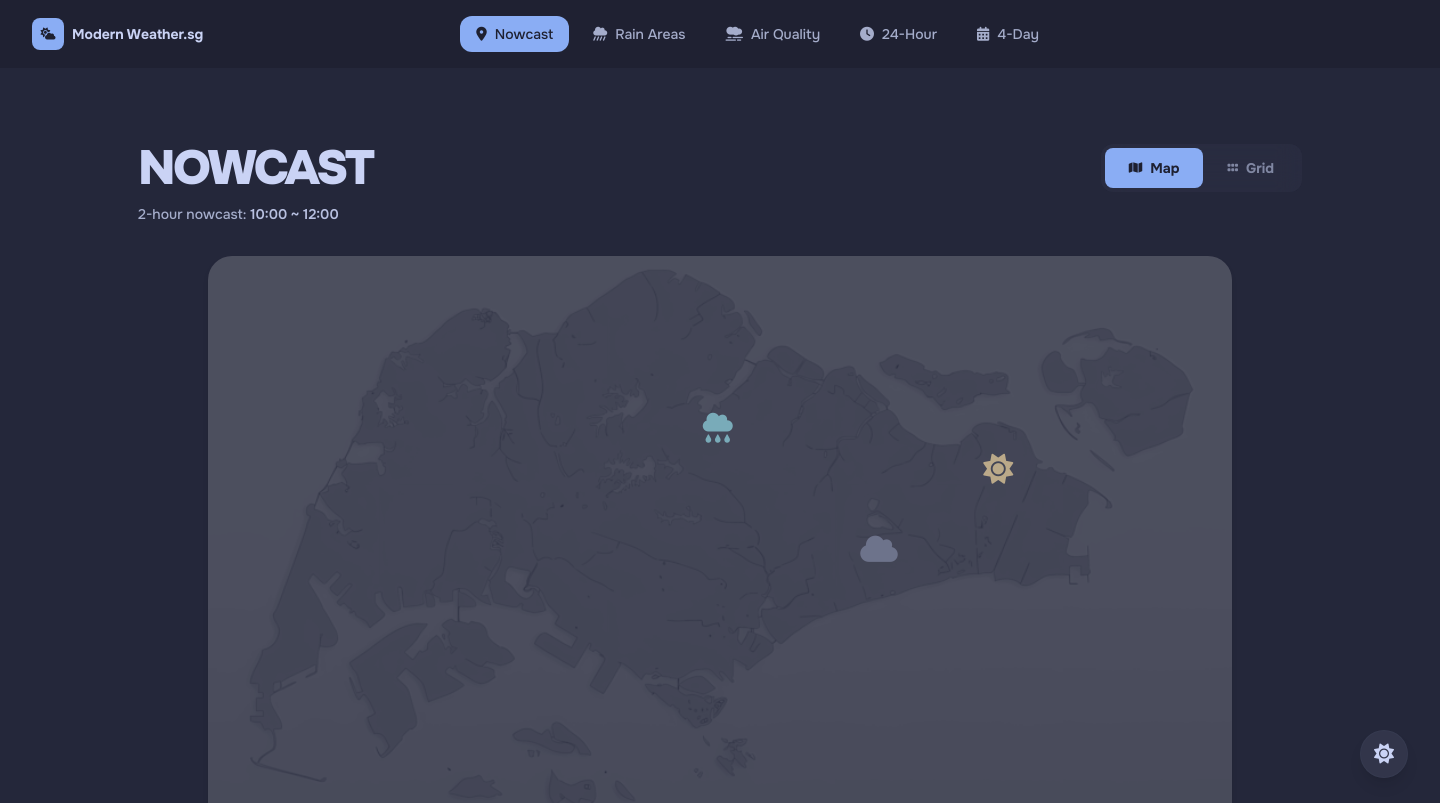
App › fetches data and renders the nowcast tab
Expected: the heading "Nowcast" is shown, [138,144,372,192]
Click the button "Grid": (1251, 168) [1204,148,1298,188]
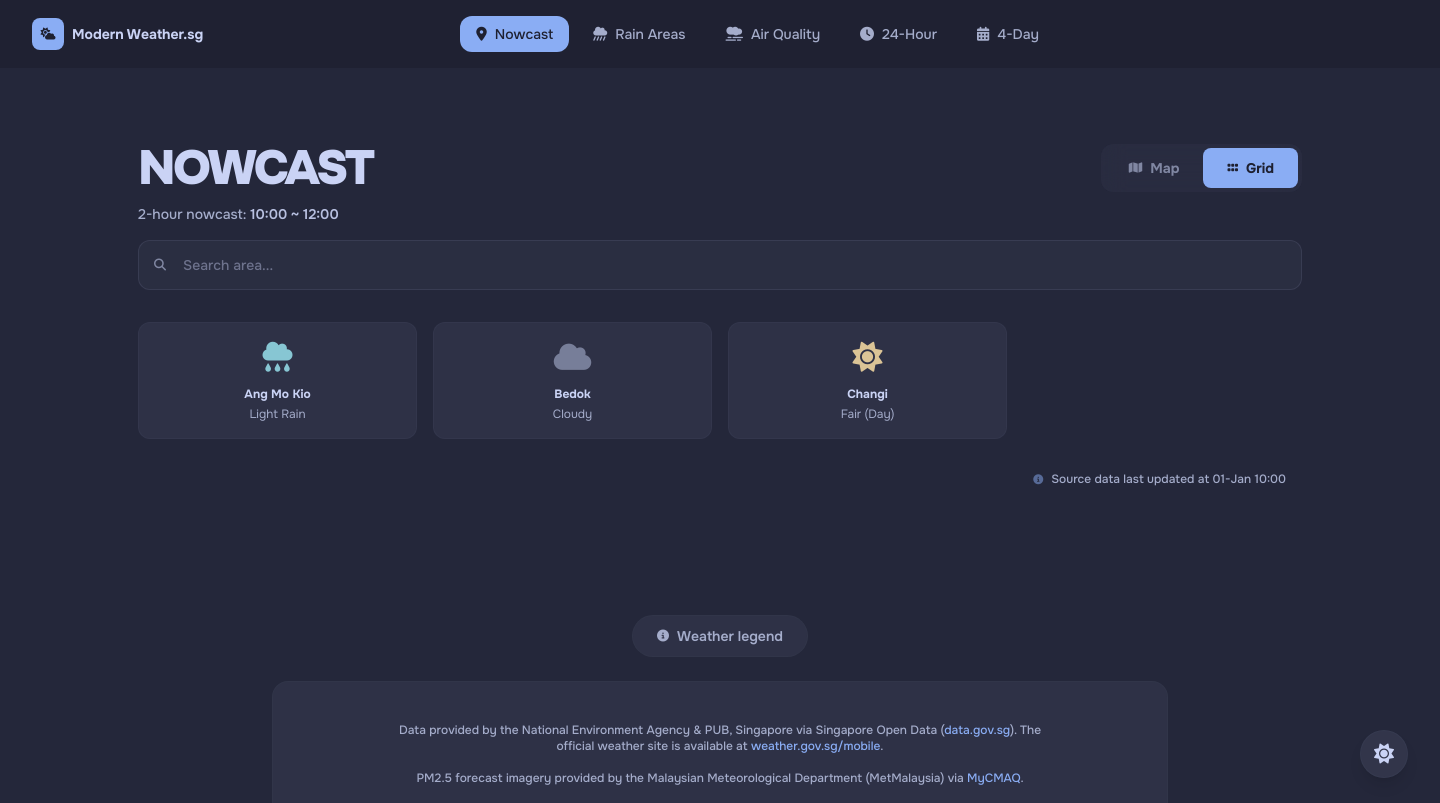
Result: the heading "Ang Mo Kio" is shown at [244,387,311,402]
